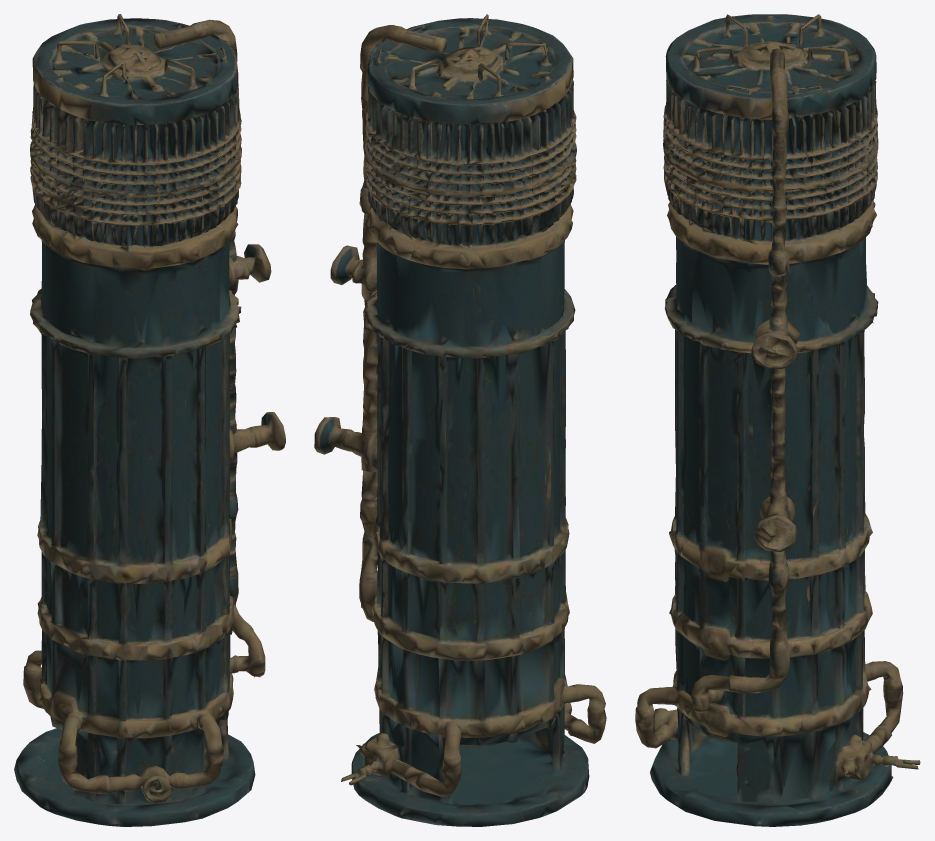
Rendered from pumptower.glb.
3 views of the same model, side by side, from view 1: azimuth 30°, elevation 25°; view 2: azimuth 150°, elevation 25°; view 3: azimuth 270°, elevation 25° (orthographic).
Size of the model in its own units: 0.6752 by 1.9 by 0.6628.
1 material, 1 textured.
